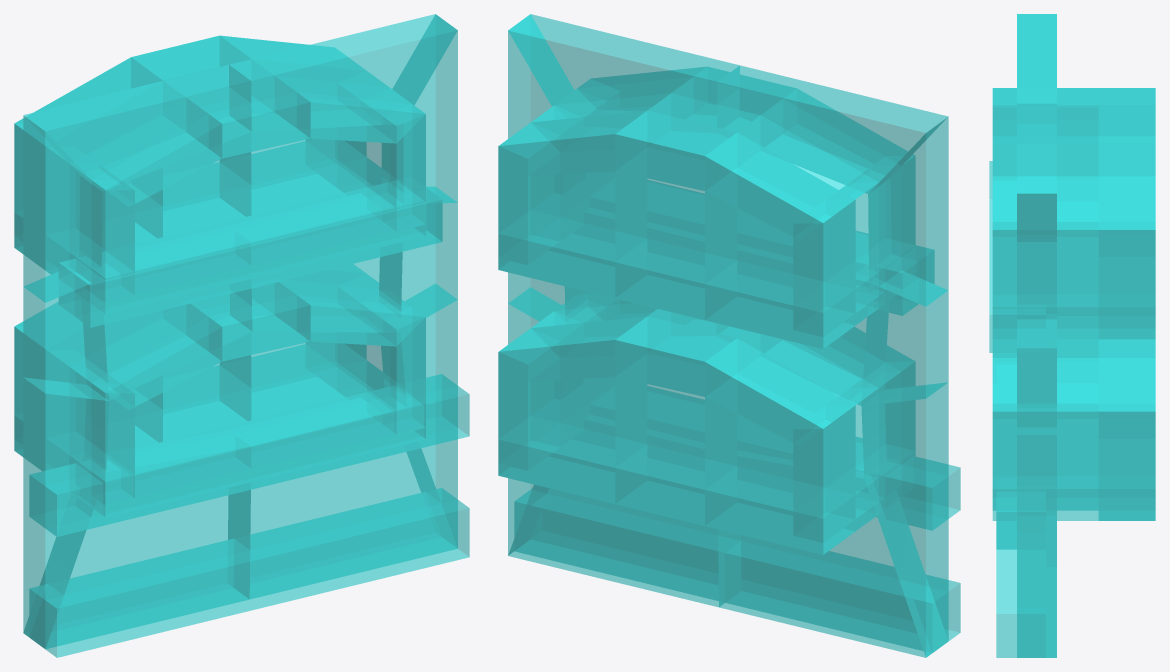
File: SM_Bld_Wall_07_Collision_01.fbx
The picture shows the model from 3 angles, left to right: view 1: azimuth 30°, elevation 25°; view 2: azimuth 150°, elevation 25°; view 3: azimuth 270°, elevation 25°; orthographic projection. The views are drawn at different scales.
Parts seen in each view (by area): view 1: SM_Bld_Wall_07_Collision_01; view 2: SM_Bld_Wall_07_Collision_01; view 3: SM_Bld_Wall_07_Collision_01.
Boxes of the visible parts, left/top/right/bottom form: SM_Bld_Wall_07_Collision_01: left=14, top=14, right=469, bottom=657; SM_Bld_Wall_07_Collision_01: left=498, top=14, right=960, bottom=657; SM_Bld_Wall_07_Collision_01: left=989, top=14, right=1155, bottom=657.
Bounding box in the file's own units: 250 × 300 × 97.58.
